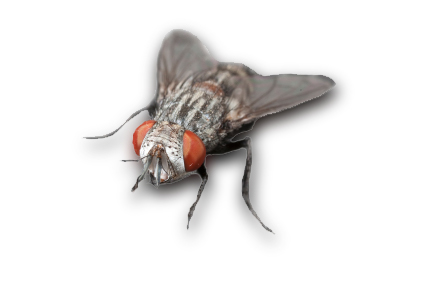house fly: (81, 29, 339, 234)
